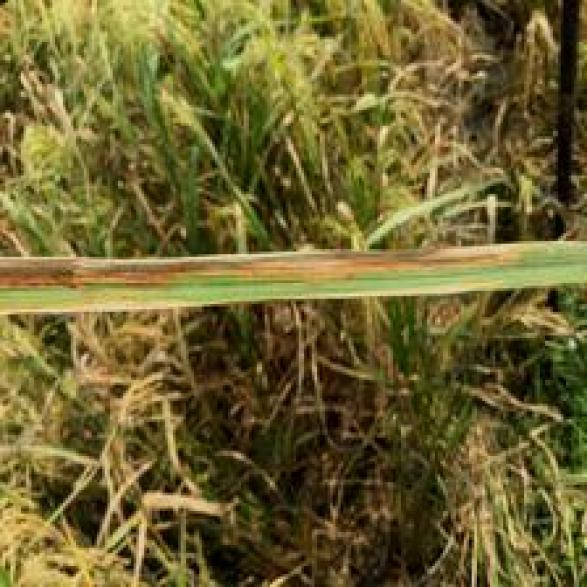Bacteria_Leaf_Blight: (18, 236, 532, 299)
